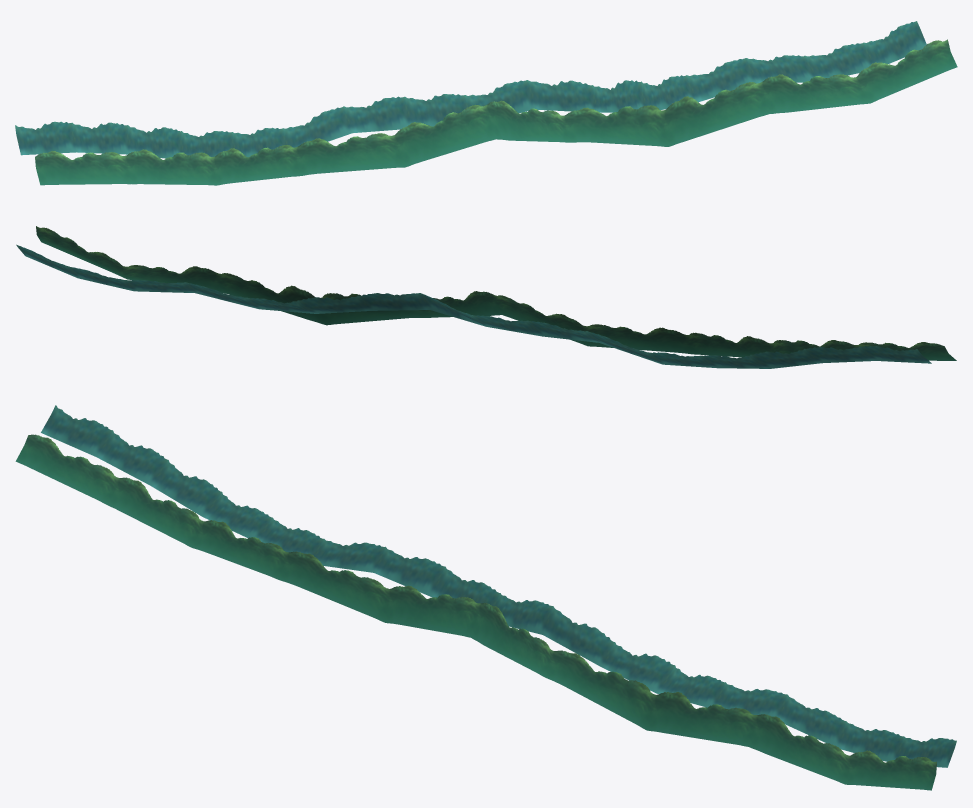
File: Tree Village Horizon.FBX
The picture shows the model from 3 angles, top to bottom: view 1: azimuth 30°, elevation 25°; view 2: azimuth 150°, elevation 25°; view 3: azimuth 330°, elevation 25°; orthographic projection.
Parts seen in each view (by area): view 1: LVL11 Horizon; view 2: LVL11 Horizon; view 3: LVL11 Horizon.
Boxes of the visible parts, box(x1,y1,x2,y2) form: LVL11 Horizon: box(15, 21, 957, 185); LVL11 Horizon: box(16, 226, 956, 368); LVL11 Horizon: box(15, 405, 956, 790).
Size of the model in its own units: 34436 by 2420 by 5862.
